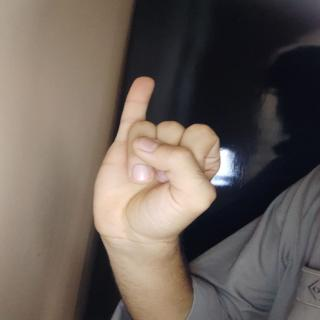MEEM: (82, 72, 230, 257)
